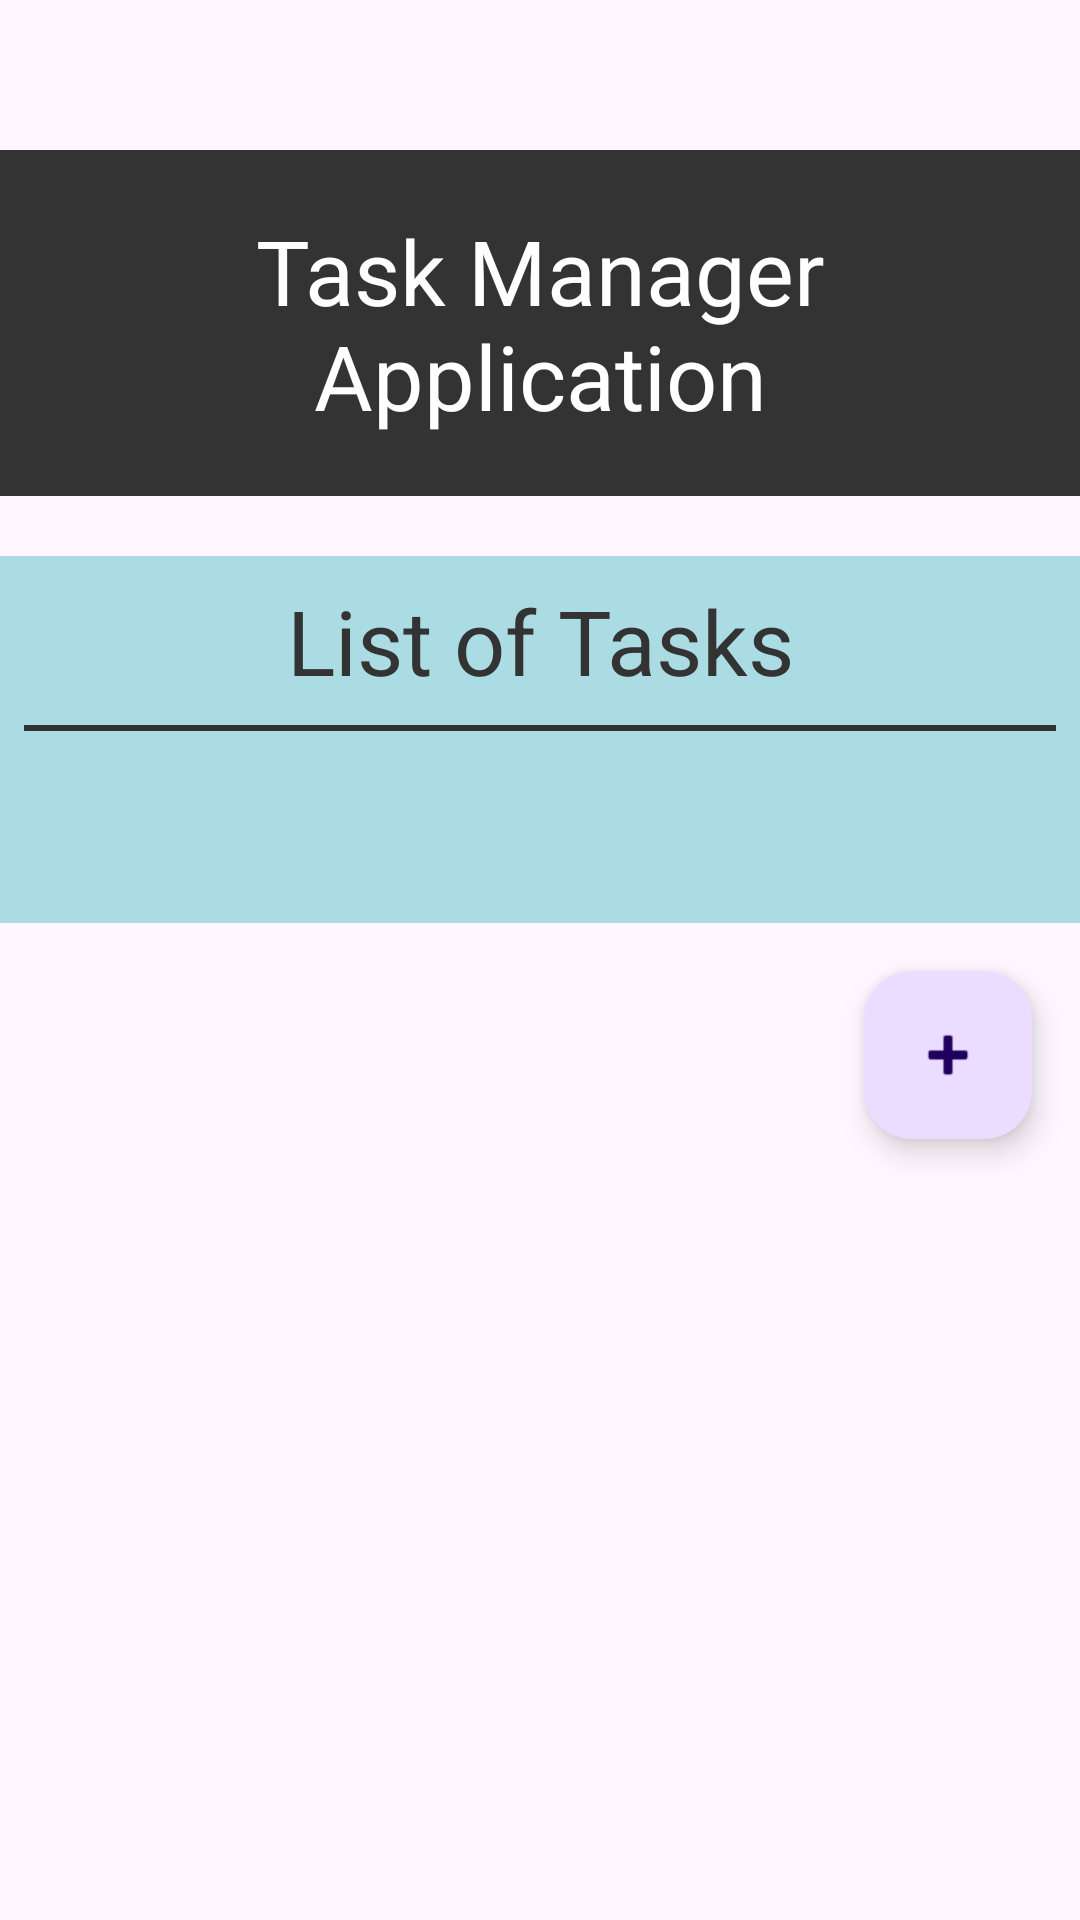

Icon bounding boxes for this 1080px x 1920px phone screenshot, format {"x1": x1, "y1": y1, "x2": x2, "y2": y2}:
add: {"x1": 864, "y1": 971, "x2": 1032, "y2": 1139}
